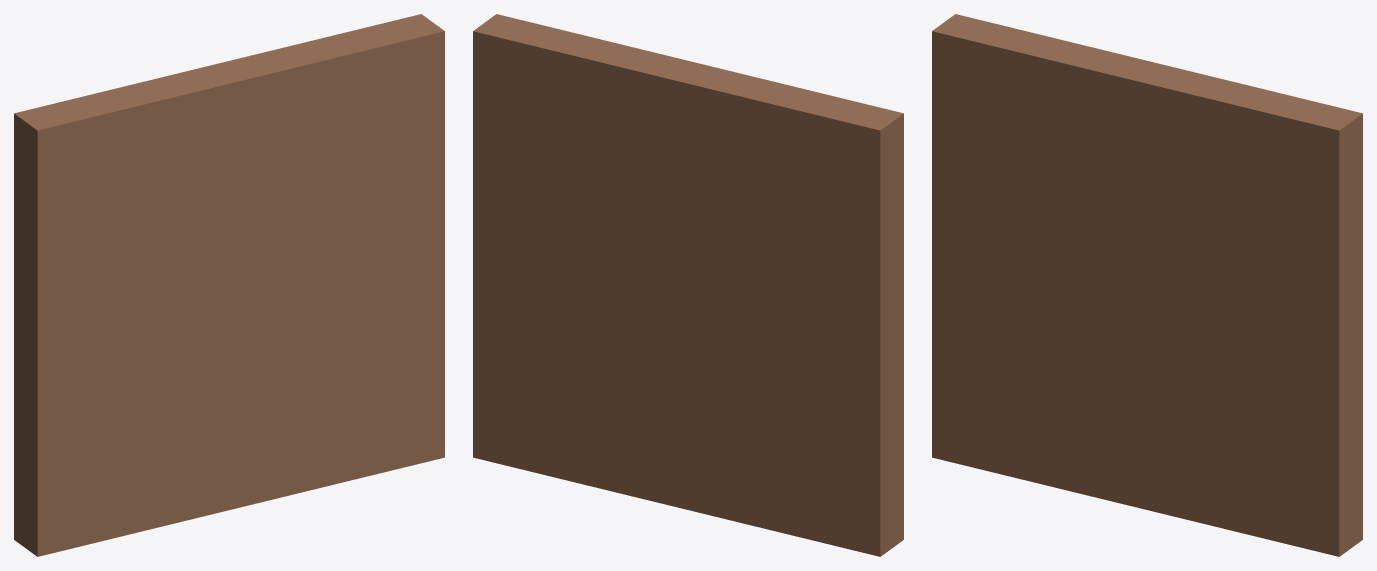
Rendered from Archive-Wall-2.fbx.
3 views of the same model, side by side, from view 1: azimuth 30°, elevation 25°; view 2: azimuth 150°, elevation 25°; view 3: azimuth 330°, elevation 25° (orthographic).
Parts seen in each view (by area): view 1: Office-Door-1-Wall-2; view 2: Office-Door-1-Wall-2; view 3: Office-Door-1-Wall-2.
Part boxes in pixels (left/top/right/bottom): Office-Door-1-Wall-2: left=14, top=14, right=444, bottom=556; Office-Door-1-Wall-2: left=473, top=14, right=903, bottom=556; Office-Door-1-Wall-2: left=932, top=14, right=1362, bottom=556.
Bounding box in the file's own units: 2 × 2 × 0.2.
